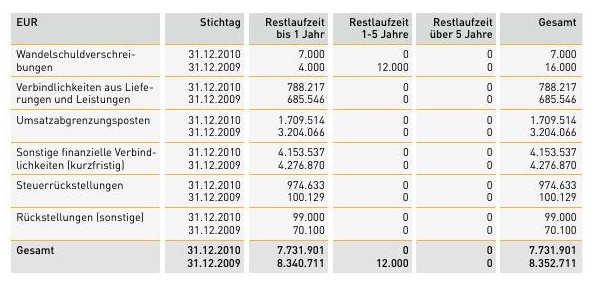table: (0, 0, 593, 286)
